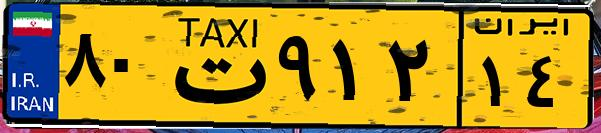0: (110, 28, 158, 98)
1: (330, 28, 385, 110), (475, 38, 525, 113)
2: (385, 28, 445, 110)
4: (525, 38, 570, 115)
8: (57, 26, 110, 100)
9: (270, 28, 330, 110)
ت: (158, 12, 270, 120)
